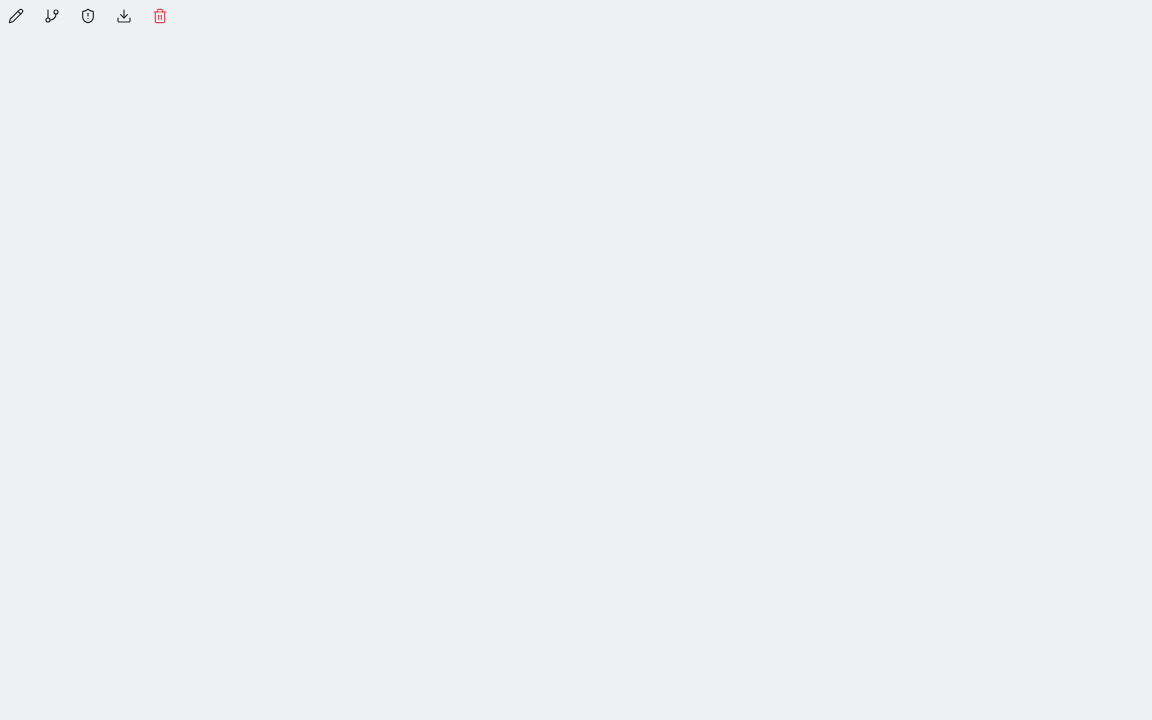
Test: RepoRowActions 的重置权限入口 › 点它能把重置弹层送到前台
Click the button named "Reset Permissions" at [88, 16], box x1=72 y1=0 x2=104 y2=32
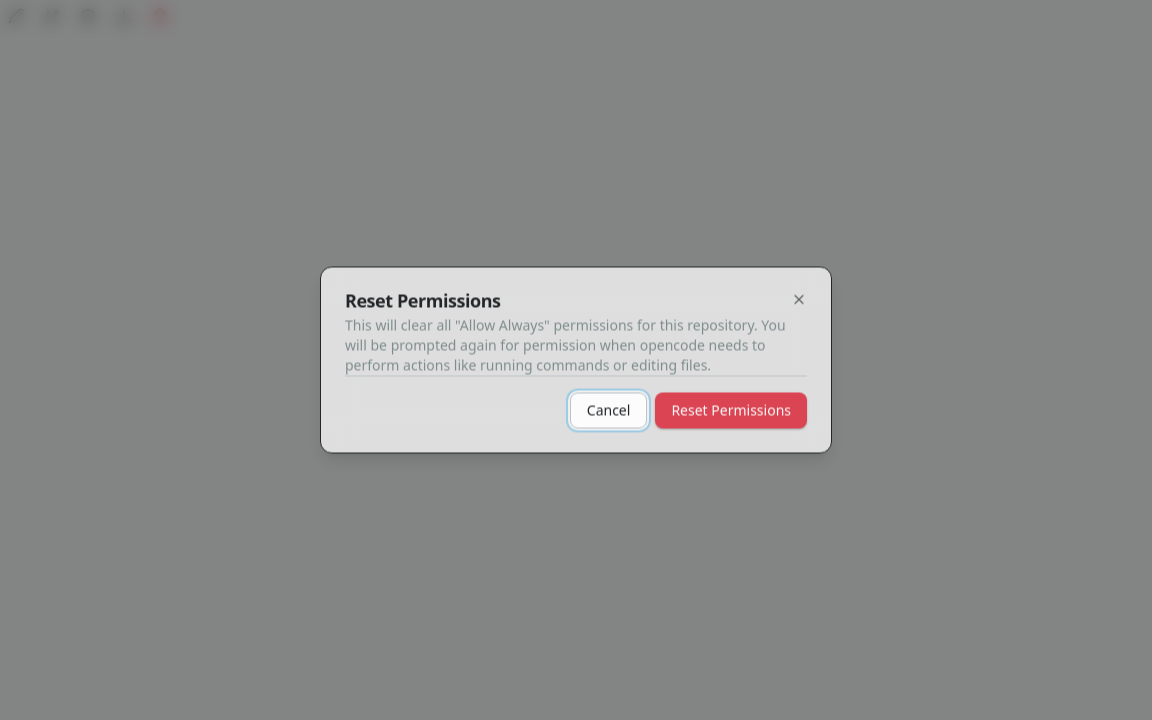
Check: the heading "Reset Permissions" is shown, box x1=345 y1=288 x2=500 y2=312
